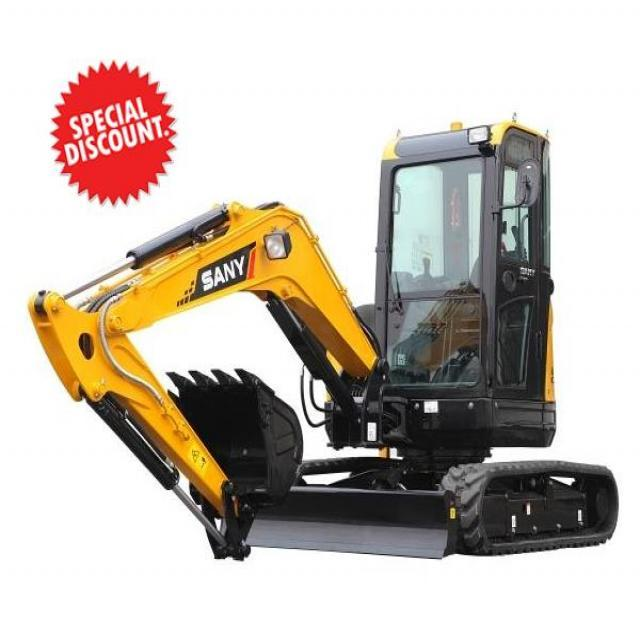C_E: (26, 118, 620, 566)
